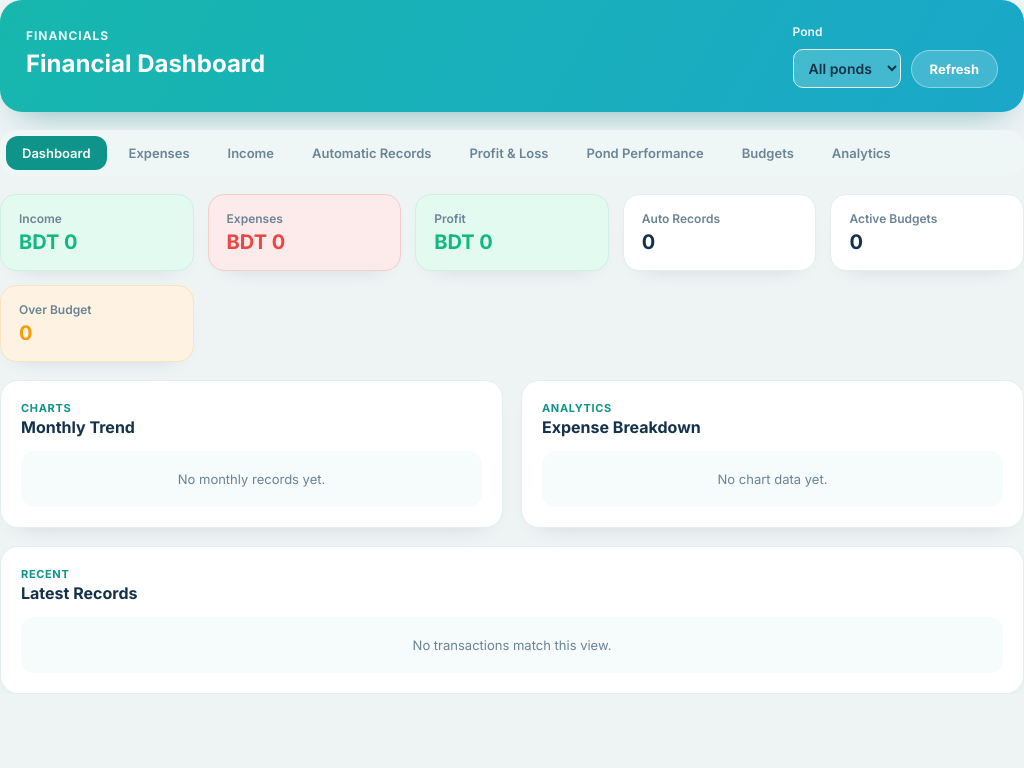
Test: FinancialManagement › renders profit and loss metrics
Expected: the heading "Financial Dashboard" is shown, x1=26 y1=49 x2=265 y2=78
Click the button "Profit & Loss". click: coordinates (509, 153)
box: x1=453 y1=136 x2=564 y2=170
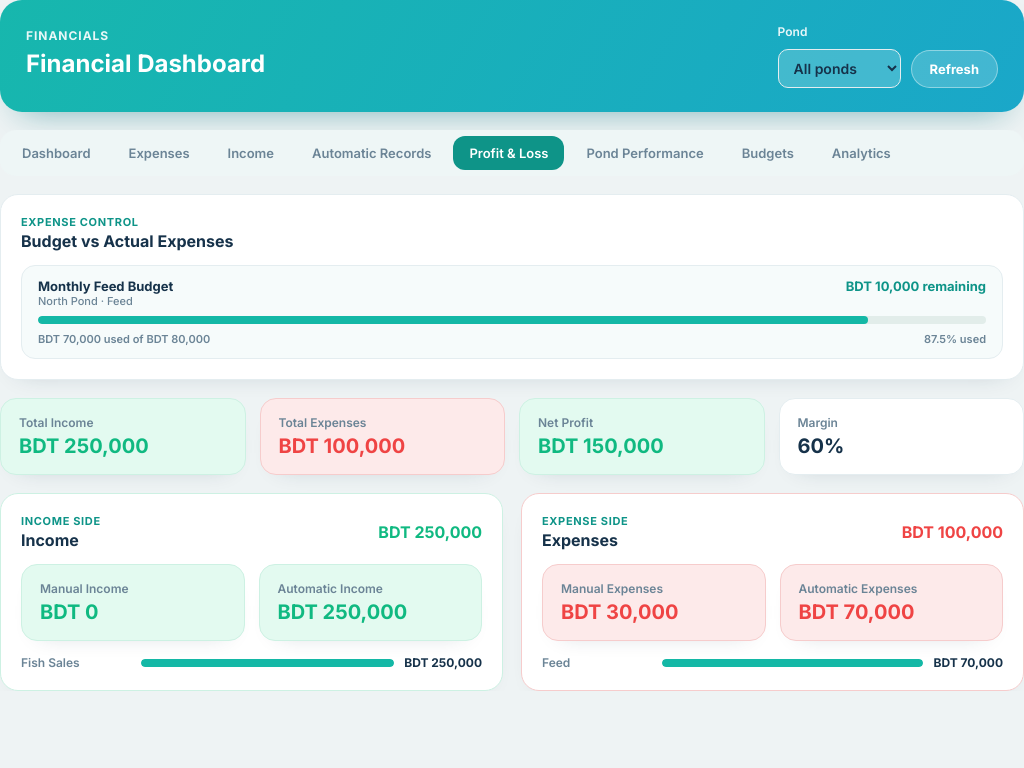
Expected: the text "Total Income" is shown, x1=19 y1=415 x2=94 y2=430
Expected: the text "Net Profit" is shown, x1=538 y1=415 x2=593 y2=430
Expected: the text "60%" is shown, x1=798 y1=434 x2=844 y2=458
